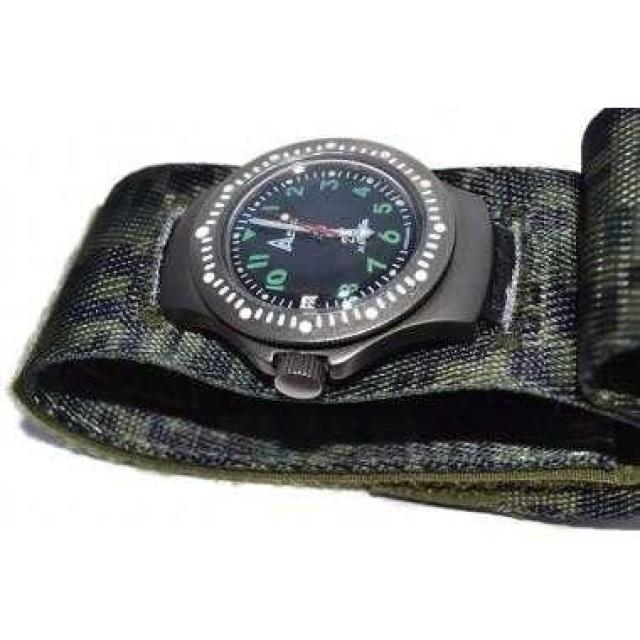watch: (199, 93, 448, 363)
